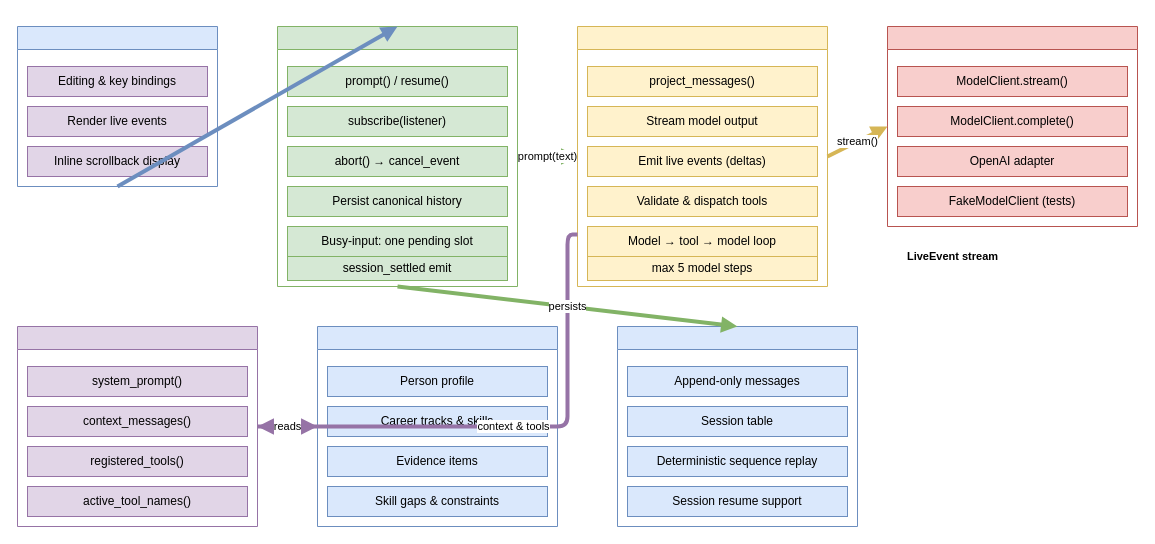
Image size: 1155x544. Some labels were removed from this diagram. The shapes that lost their labels are listed below. From the top down, each one's box as (x1, y1, x2, y2) in pixels, then its label:
(16, 26, 218, 186): TerminalClient
(886, 26, 1138, 226): Model & Tool Boundary
(276, 26, 518, 286): AgentSession
(576, 26, 828, 286): Turn Runtime (domain-free)
(16, 326, 258, 526): EmploymentHost
(316, 326, 558, 526): CareerStore (SQLite)
(616, 326, 858, 526): SessionStore (SQLite)
